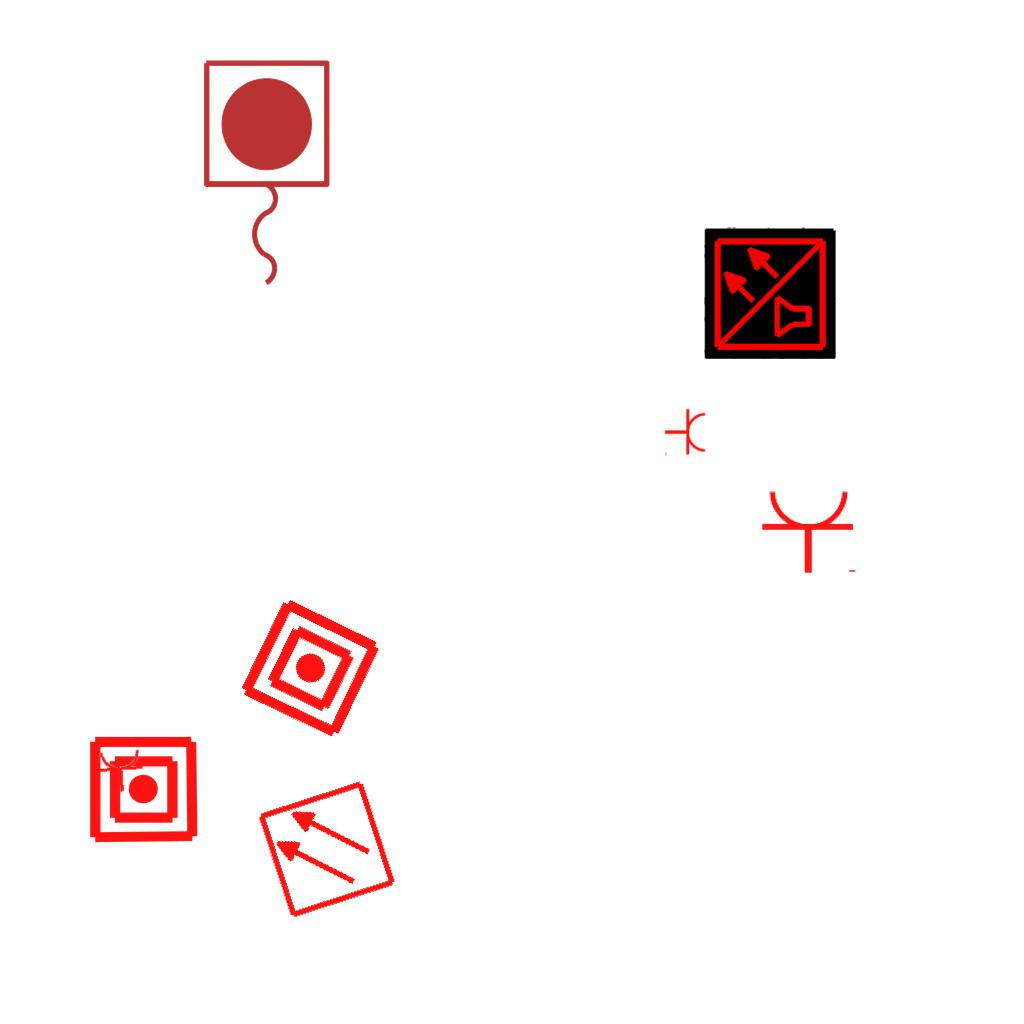NAM-Nichtautomatischer_Melder: (234, 592, 387, 745), (87, 733, 200, 846)
OKW_Multisensormelder_(Kombination_optischer_Rauch-Kahlenmonoxid_Waerme-Melder): (704, 227, 836, 359)
RMO_Rauchmelder_optischer: (255, 778, 398, 921)
Schukosteckdose_einfach: (760, 488, 860, 575), (95, 747, 148, 795), (664, 408, 707, 458)
Zugtaster: (193, 52, 337, 296)
